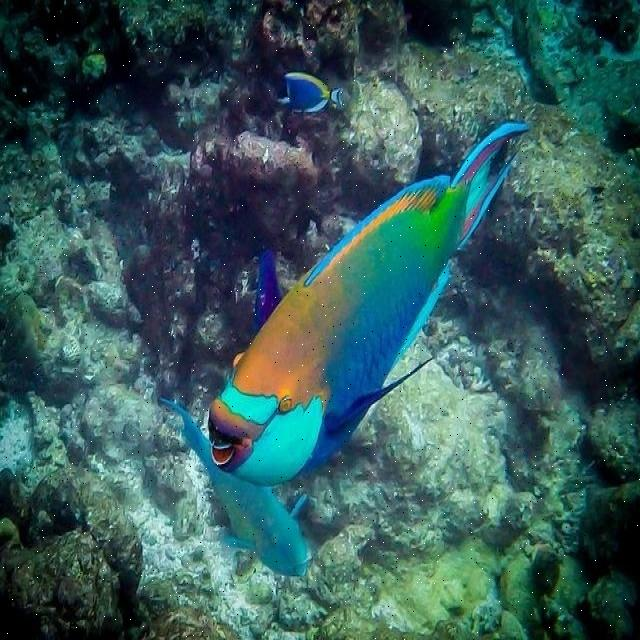fish: (205, 118, 533, 490), (167, 397, 309, 577), (270, 74, 342, 109)
